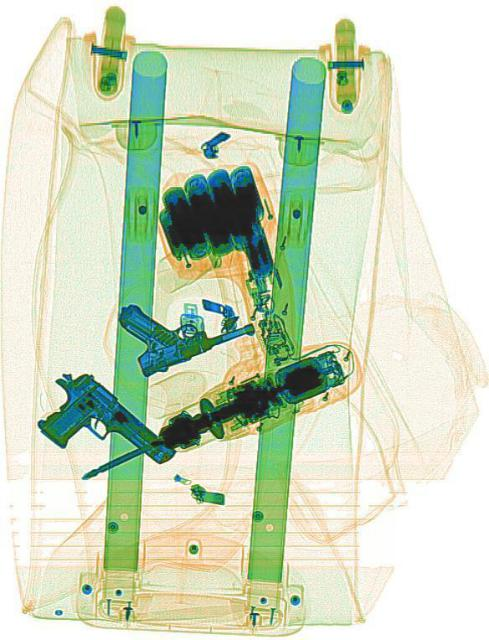Gun: (27, 354, 177, 516), (114, 262, 255, 380)
